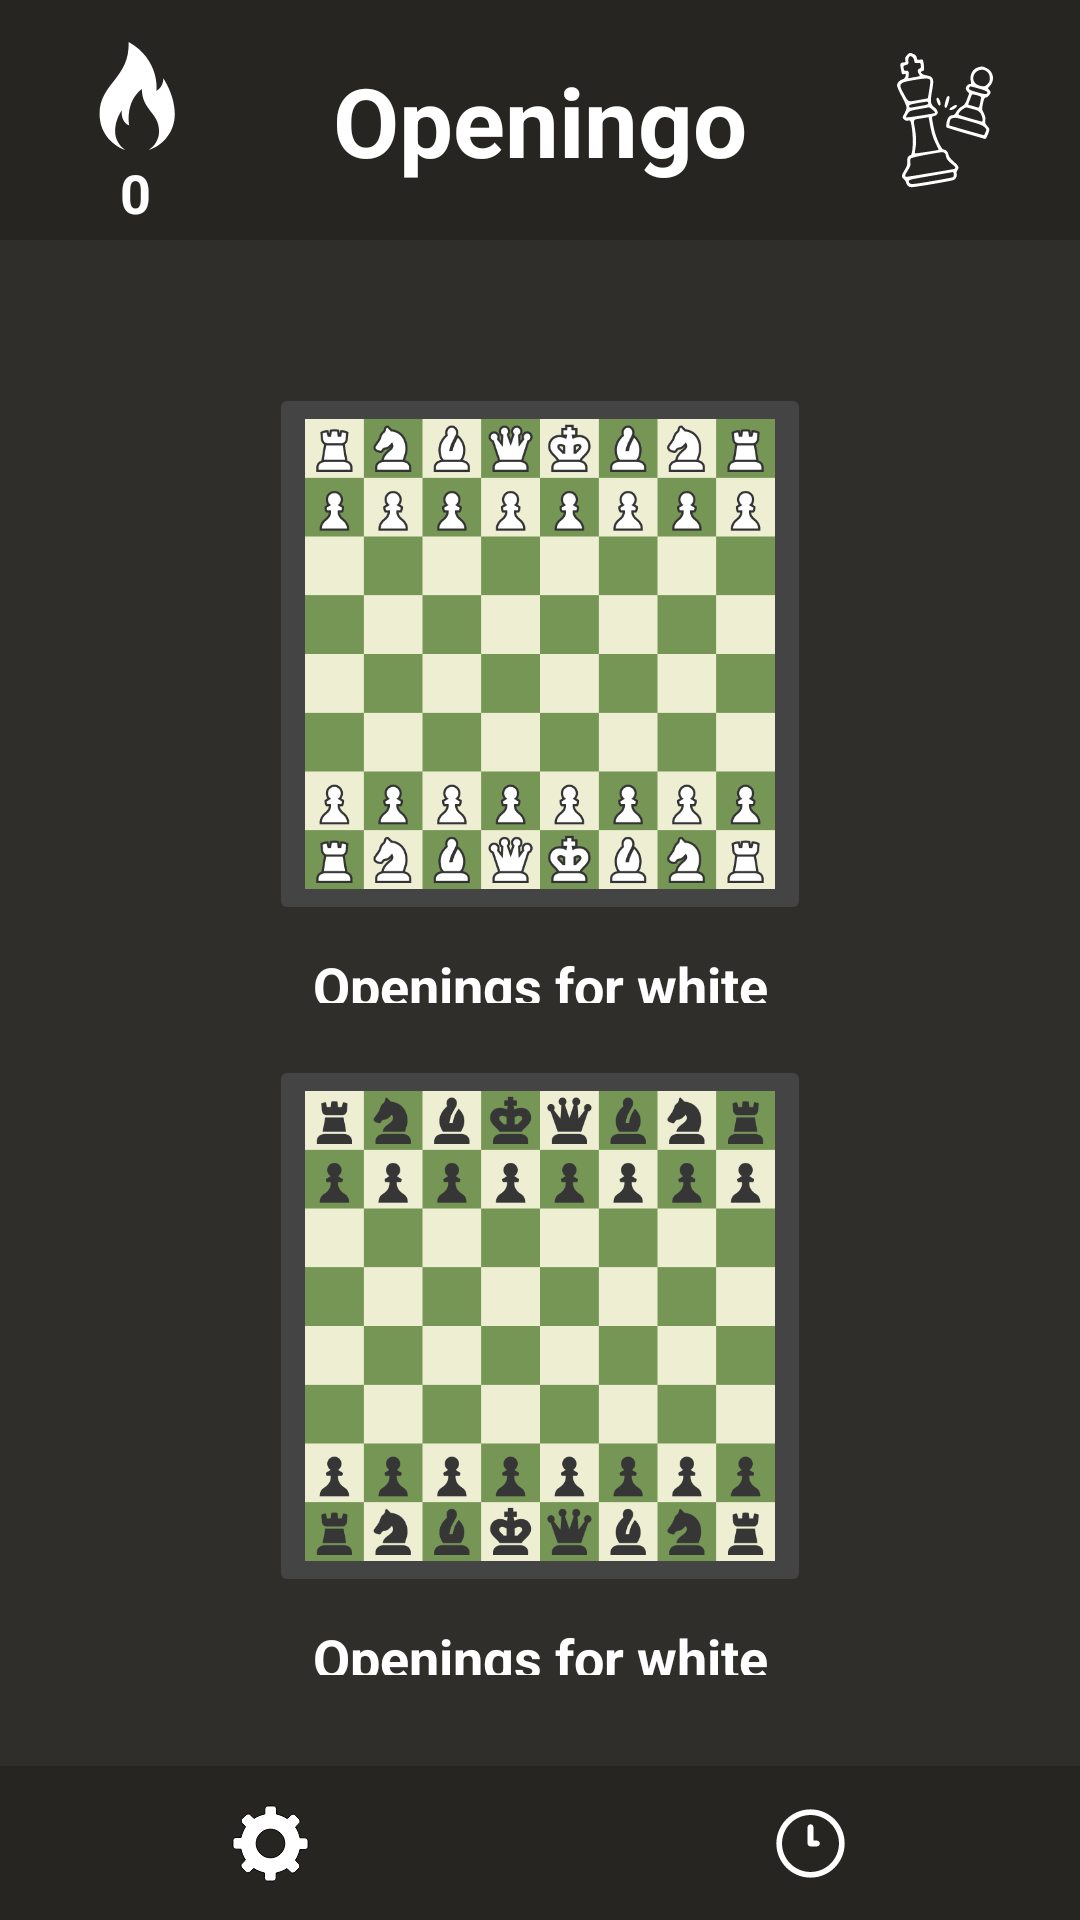

Point at icon controls on the screen. Image size 1080 × 1920, points as (x,y).
Streak icon: (137,96)
